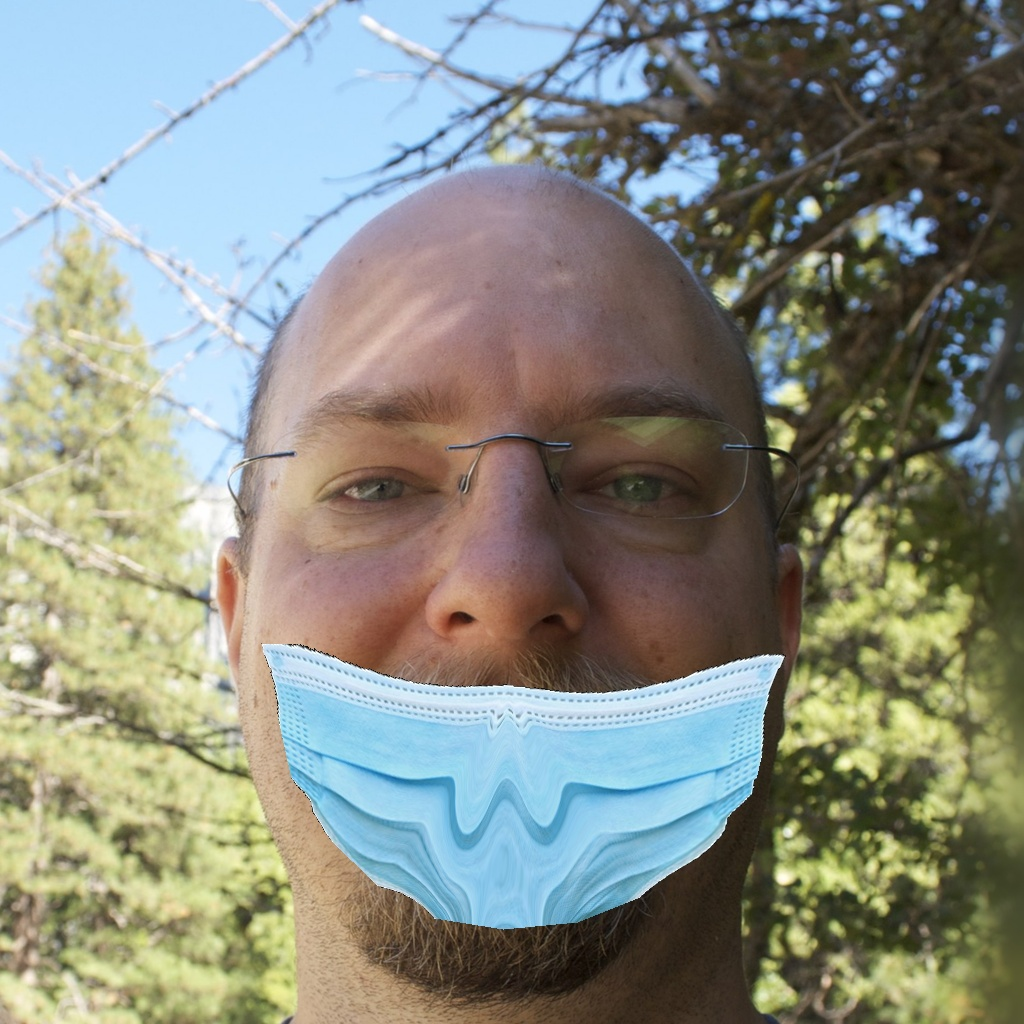mascarilla_mal_puesta: (254, 428, 759, 983)
